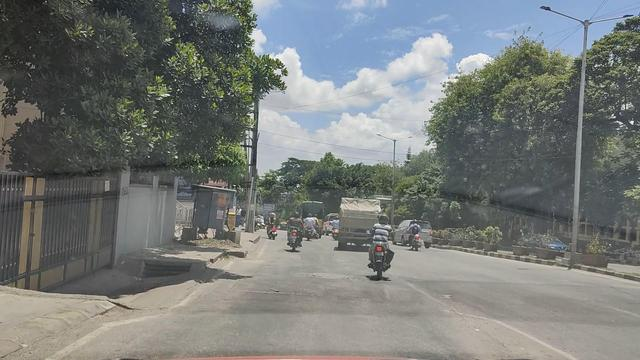HMV: (329, 191, 384, 249), (297, 196, 330, 240)
RoadDamages: (437, 296, 521, 360), (295, 258, 364, 286)
